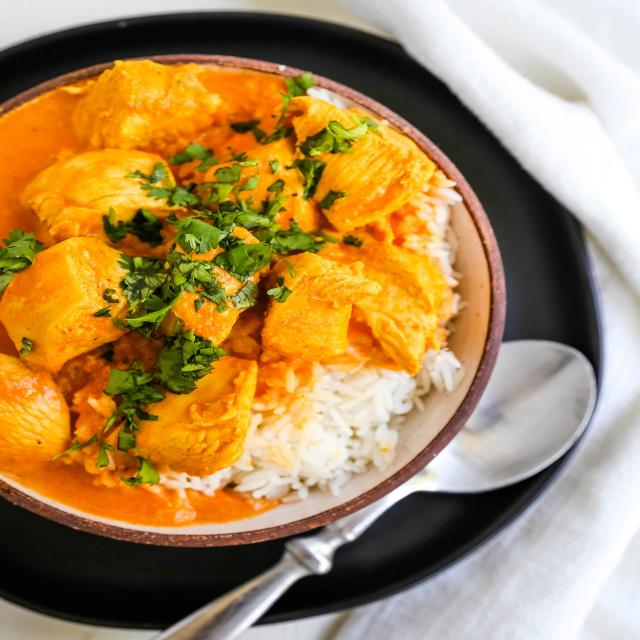Butter Chicken: (0, 61, 440, 478)
